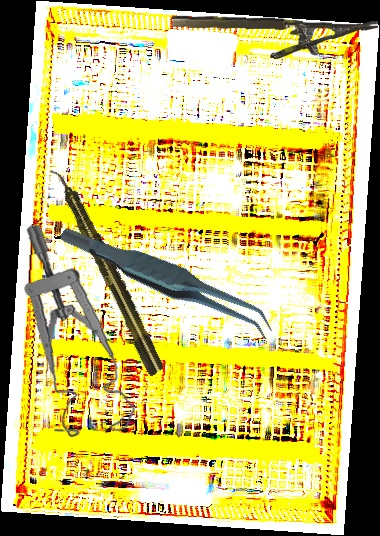Handpiece: (47, 162, 168, 379)
Needle Holder: (170, 13, 379, 63)
Speculum: (9, 222, 149, 442)
Tissue Forceps: (57, 185, 279, 376)
